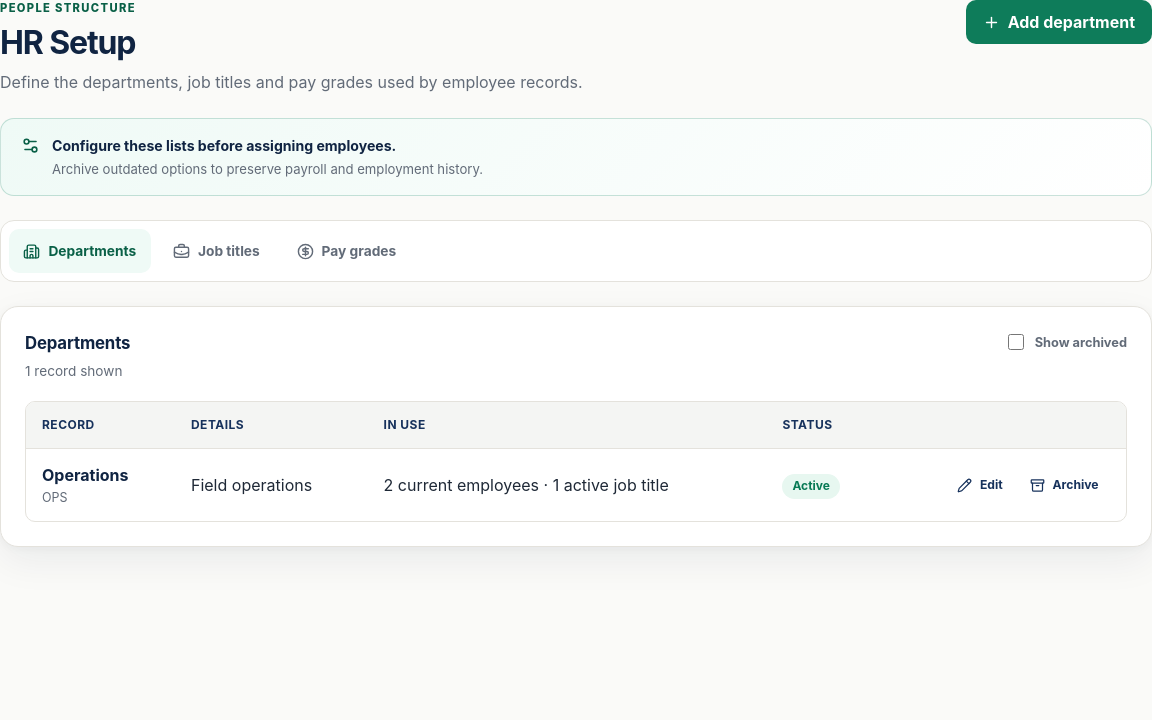
Test: HrSetupPage › shows dependency errors during archive and can display archived records
The width and height of the screenshot is (1152, 720).
Expected: the text "Operations" is shown, left=42, top=465, right=128, bottom=485
Click the button with aria-label "archive operations" at (1064, 485), box left=1018, top=468, right=1110, bottom=503
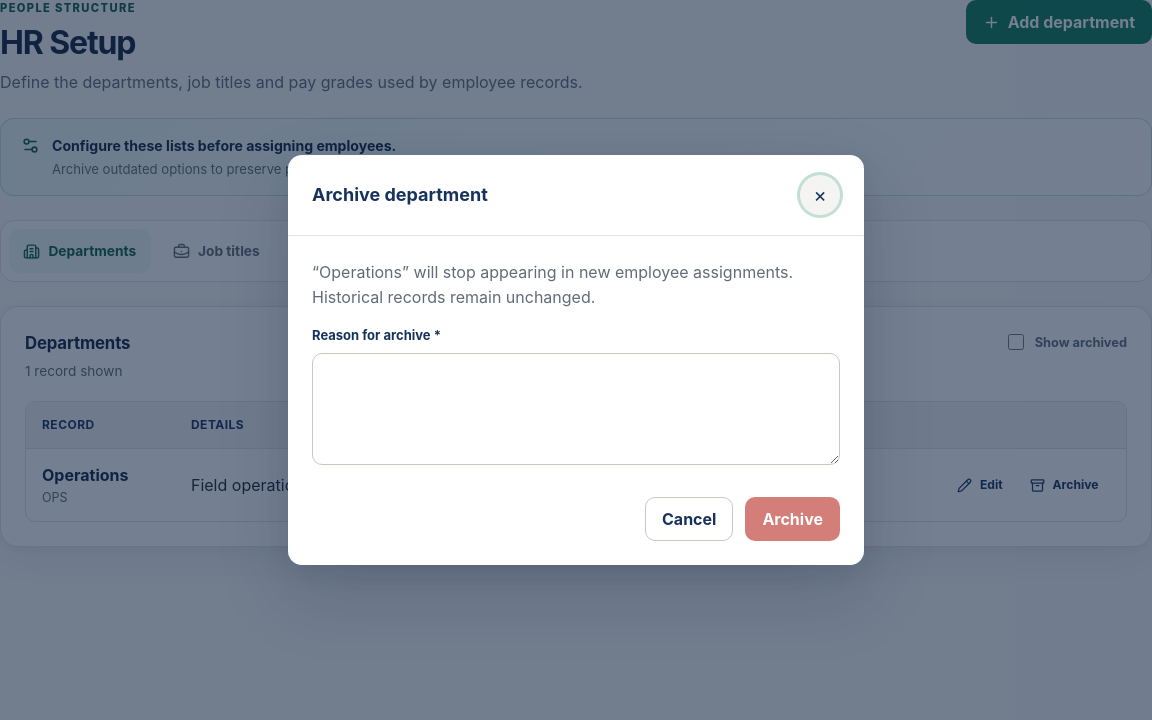
Type "Department is no longer used" into the text box labelled "Reason for archive *" at (576, 409), box left=312, top=353, right=840, bottom=465
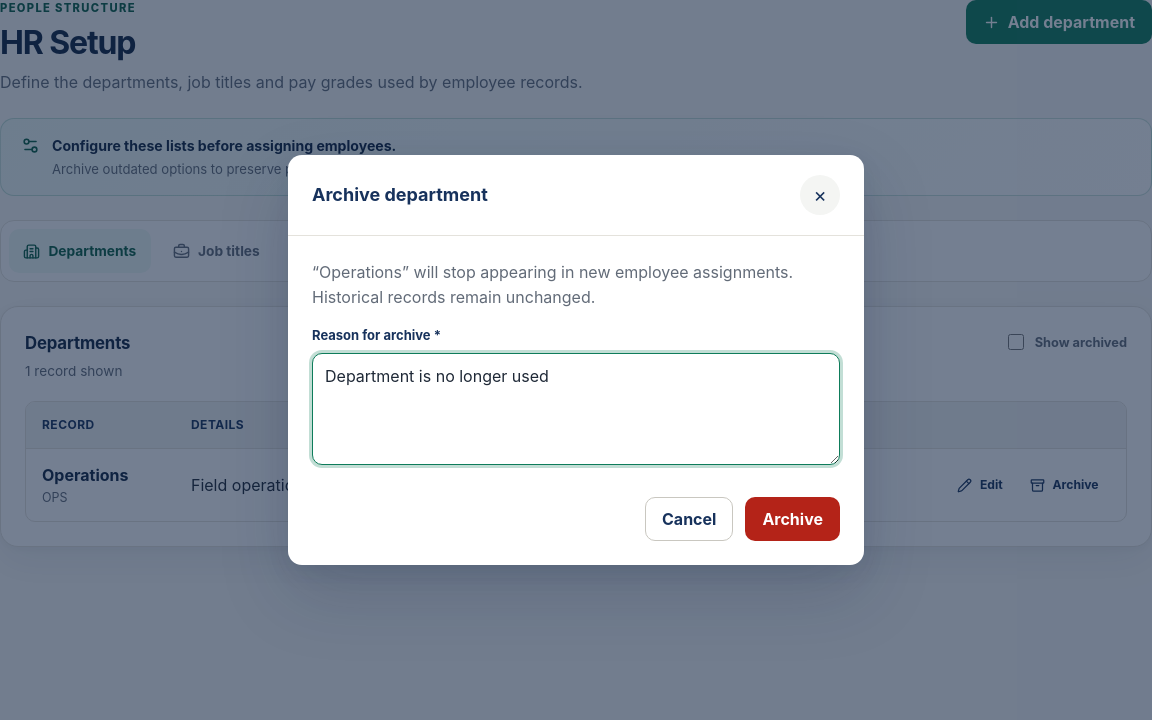
Click the button "Archive" at (793, 519), box left=745, top=497, right=840, bottom=541
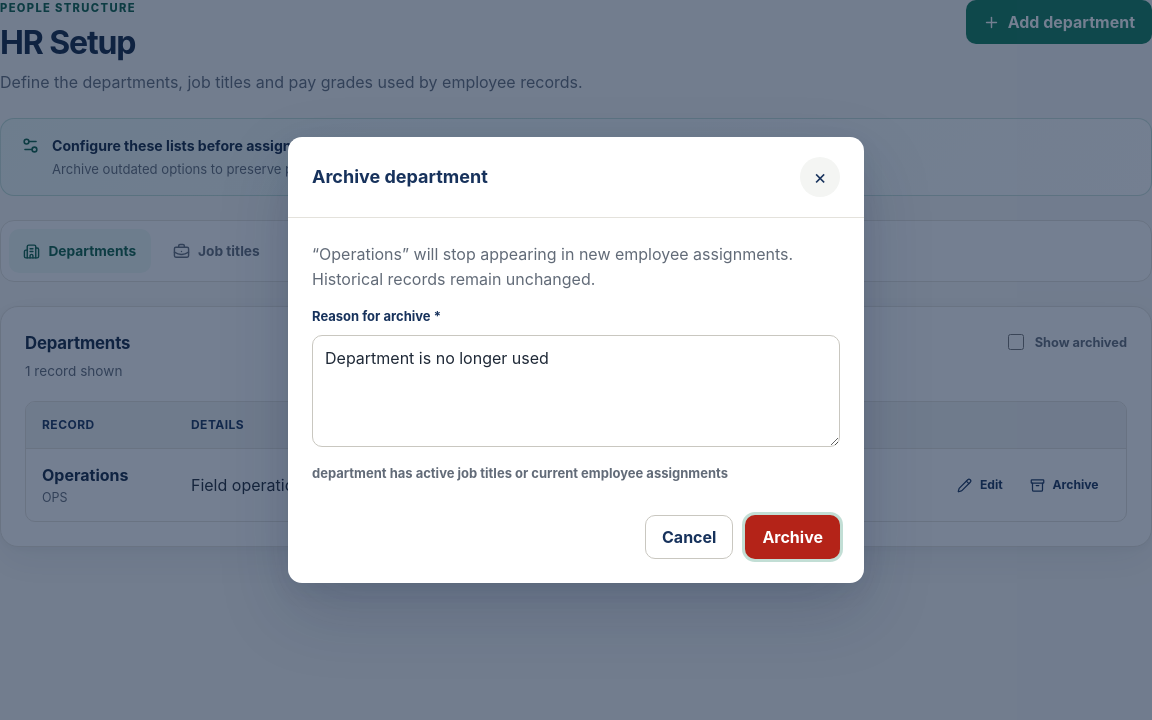
Result: the text "department has active job titles or current employee assignments" is shown at left=312, top=465, right=728, bottom=481
